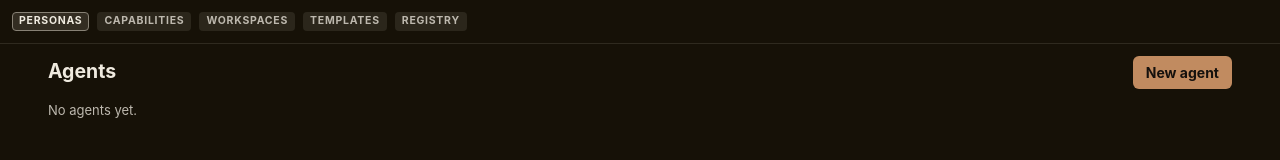
Scenario: LibrarySurface › shows the Registry nav button and shelf when the flag is on
Expected: the text "No agents yet." is shown, [48,102,137,118]
Click the button "Registry": coordinates (431, 21) [395,12,467,30]
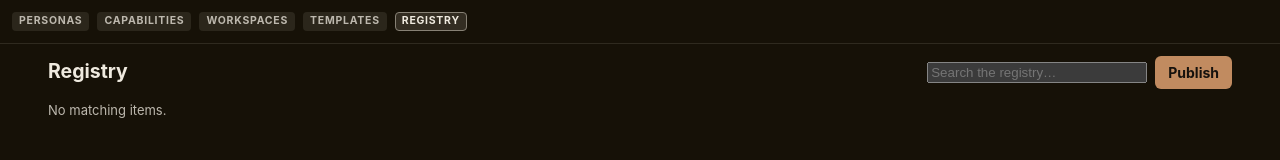
Result: the field labelled "Search the registry" is shown at [927,62,1147,82]
